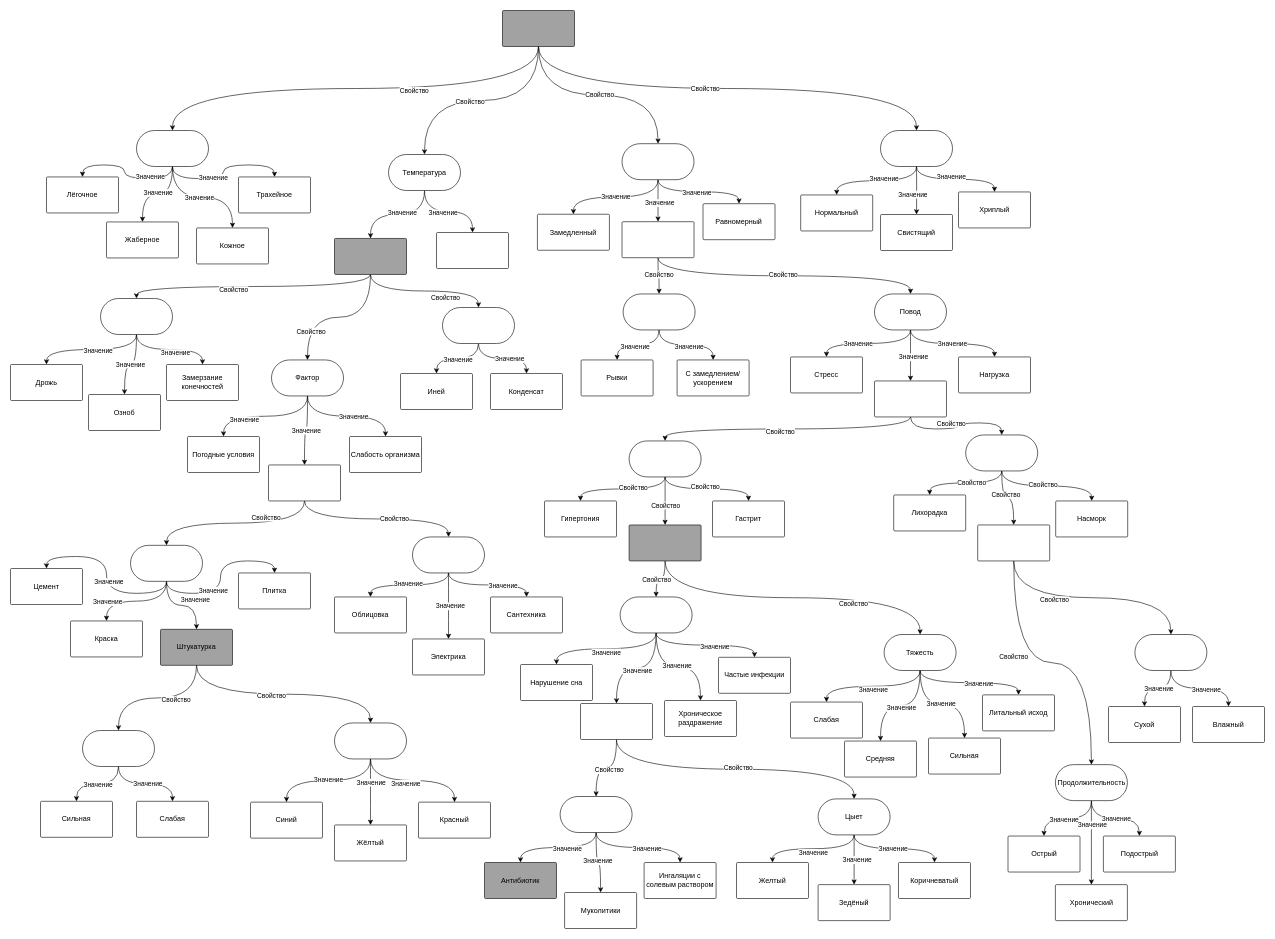
This 1275x939 diagram has some shape labels left out. Here are the shapes that lost their labels. From the top down, the box of each, then its label:
(502, 10, 574, 46): Дыхание
(136, 130, 208, 166): Способ
(621, 143, 694, 180): Форма
(880, 130, 952, 166): Звук
(334, 238, 406, 274): Холод
(436, 232, 508, 268): Тепло
(621, 221, 694, 258): Учащённое
(100, 298, 172, 334): Влияние
(442, 307, 514, 344): Признак
(622, 293, 695, 330): Регулярность
(874, 380, 946, 417): Заболевание
(628, 440, 701, 477): Подгруппа
(965, 434, 1038, 471): Симптоматика
(268, 464, 340, 501): Ремонт
(412, 536, 484, 573): Сфера работ
(628, 524, 701, 561): Бронхит
(977, 524, 1050, 561): Кашель
(130, 545, 202, 581): Строительные материалы
(620, 596, 692, 633): Сопутствующие проявления
(1134, 634, 1207, 670): Тип
(334, 722, 406, 759): Цвет
(580, 703, 652, 740): Гнойная мокрота
(82, 730, 154, 766): Адгезия
(560, 796, 632, 832): Лечение
